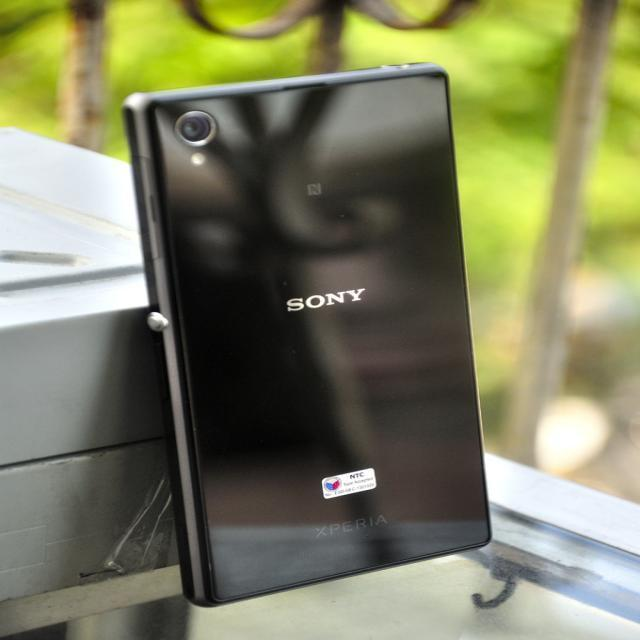Phone: (122, 67, 497, 610)
